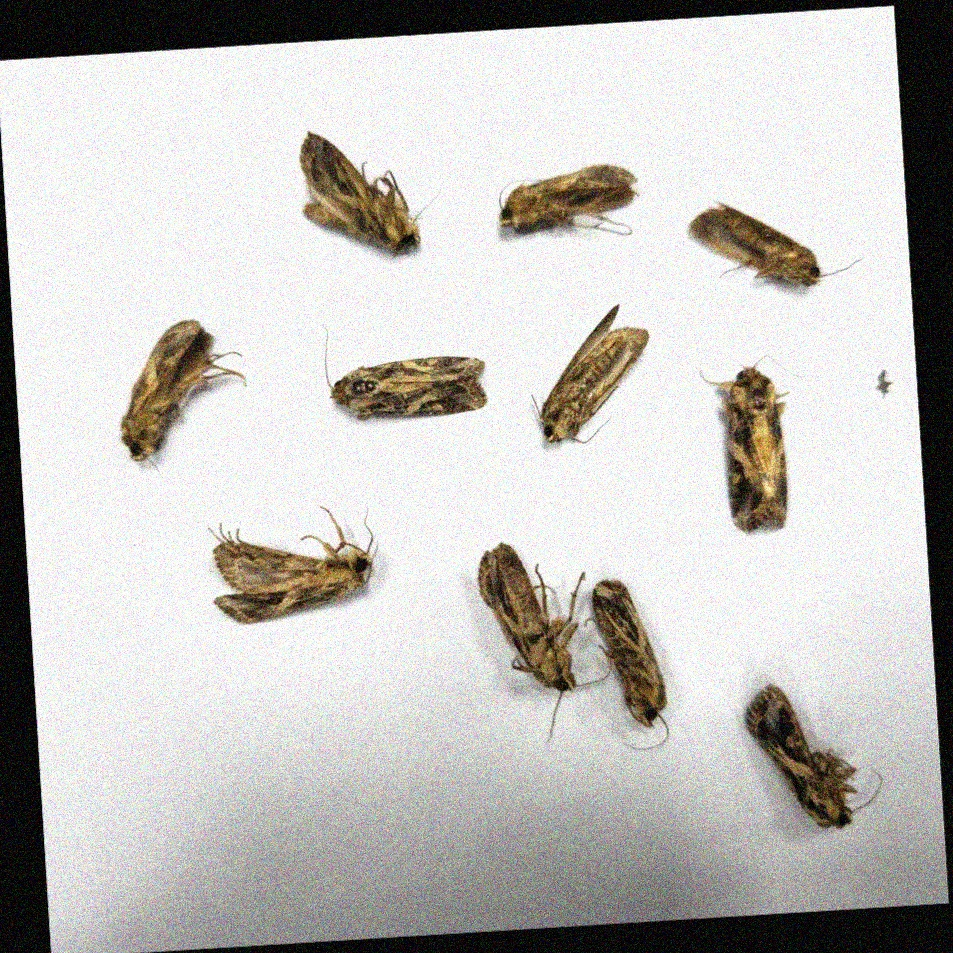Spodoptera litura: (481, 539, 611, 742), (116, 319, 248, 480), (746, 680, 882, 829), (209, 505, 379, 620), (300, 125, 441, 260), (703, 353, 807, 531), (687, 190, 865, 288), (529, 305, 652, 443), (324, 318, 487, 417), (586, 575, 666, 751), (497, 164, 640, 240)
